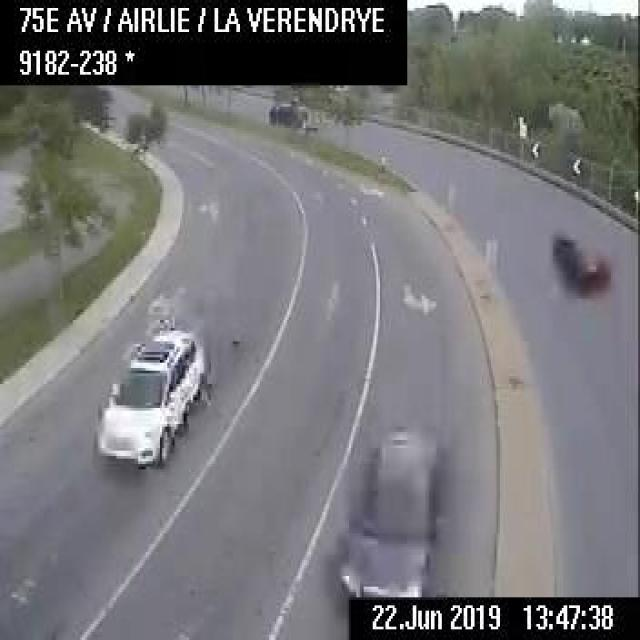vehicle: (338, 422, 447, 598), (93, 323, 209, 469), (549, 226, 613, 298), (266, 99, 307, 124)
